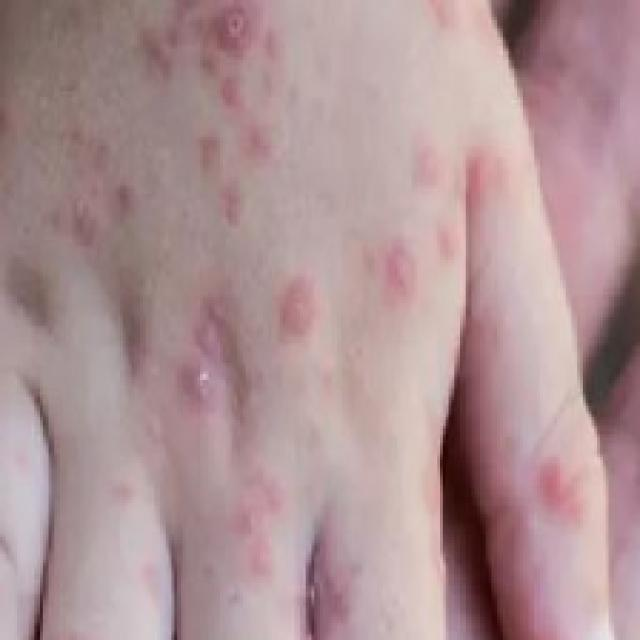Eczema: (77, 16, 464, 385)
